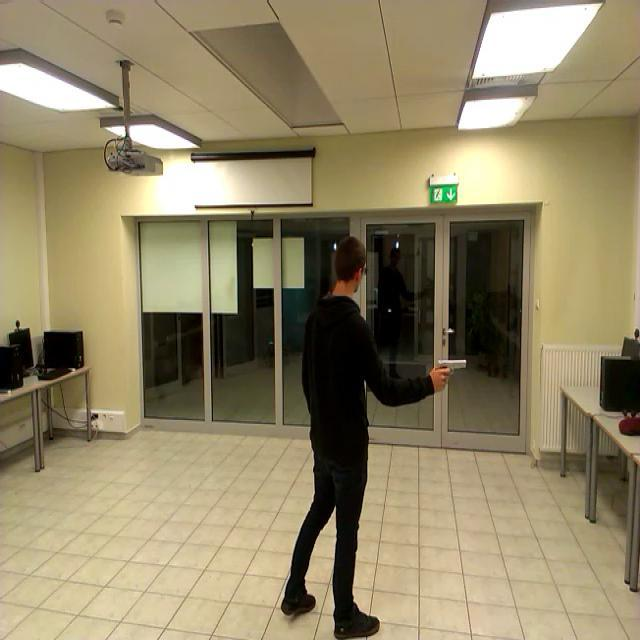Gun: (434, 358, 466, 384)
